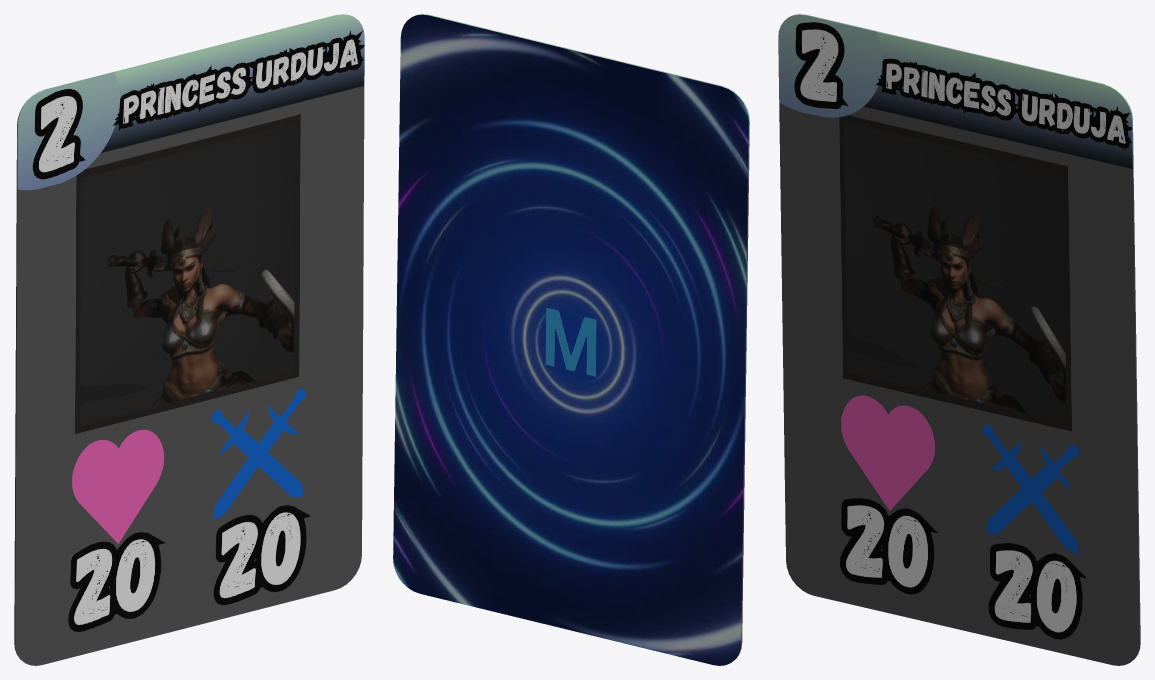
The model's file is Princess Urduja2.glb.
3 renders of one model, left to right at view 1: azimuth 30°, elevation 25°; view 2: azimuth 150°, elevation 25°; view 3: azimuth 330°, elevation 25°, orthographic.
Visible parts, largest first — view 1: Card; view 2: Card; view 3: Card.
Boxes of the visible parts, x1,y1,x2,y2 form: Card: [14, 14, 364, 665]; Card: [393, 14, 749, 665]; Card: [778, 14, 1140, 665].
Bounding box in the file's own units: 0.0564 × 0.0891 × 0.0024.
Materials: 2 (2 with a texture image).
